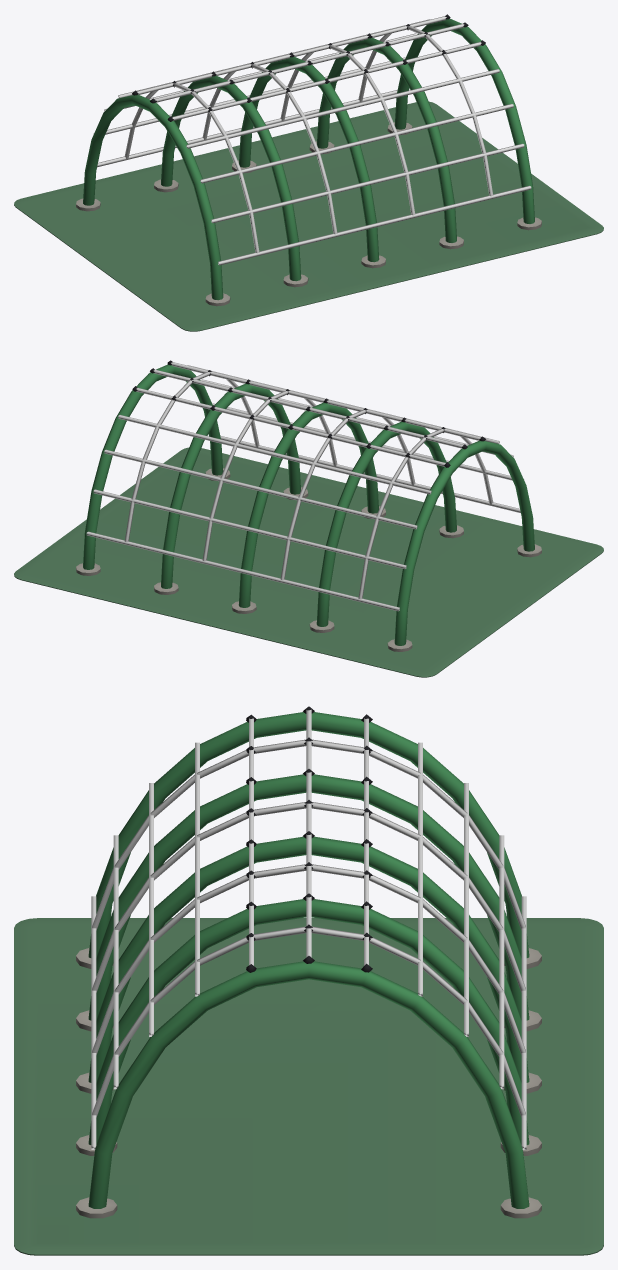
The model's file is NetTunnel.fbx.
The picture shows the model from 3 angles, top to bottom: view 1: azimuth 30°, elevation 25°; view 2: azimuth 150°, elevation 25°; view 3: azimuth 270°, elevation 25°; orthographic projection. The views are drawn at different scales.
Visible parts, largest first — view 1: NetTunnel; view 2: NetTunnel; view 3: NetTunnel.
Boxes of the visible parts, <box> form: NetTunnel: <box>14,14,603,331</box>; NetTunnel: <box>14,360,603,677</box>; NetTunnel: <box>14,706,603,1255</box>.
Size of the model in its own units: 2.7 by 1.01 by 2.
